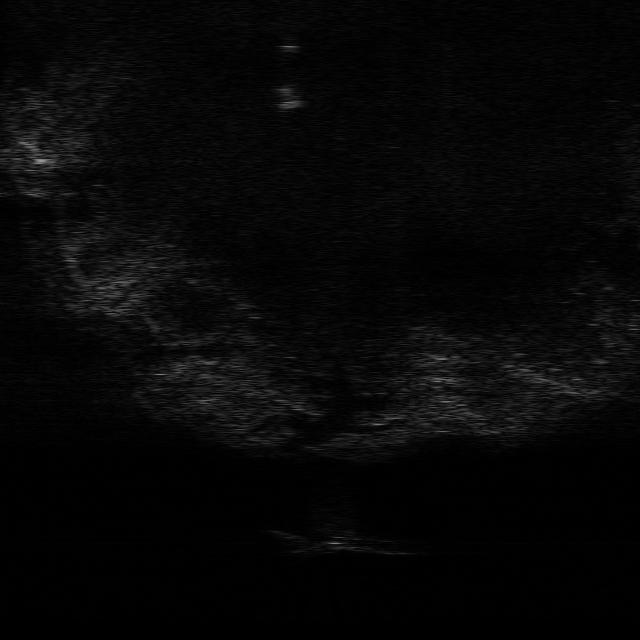plane: (265, 527, 410, 557)
